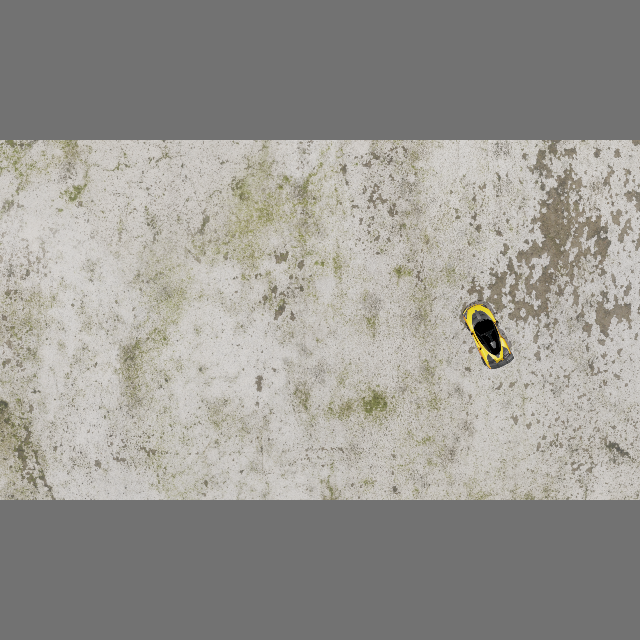car: (458, 299, 518, 373)
